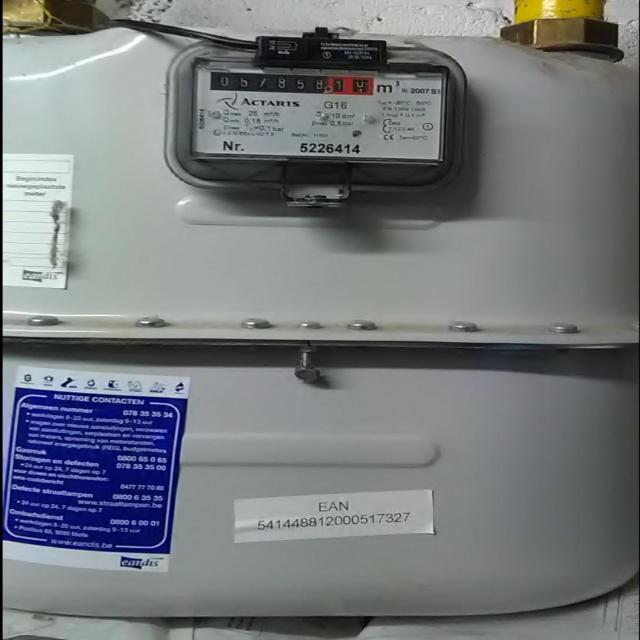gaz_meter: (188, 57, 444, 162)
indication: (211, 72, 373, 95)
